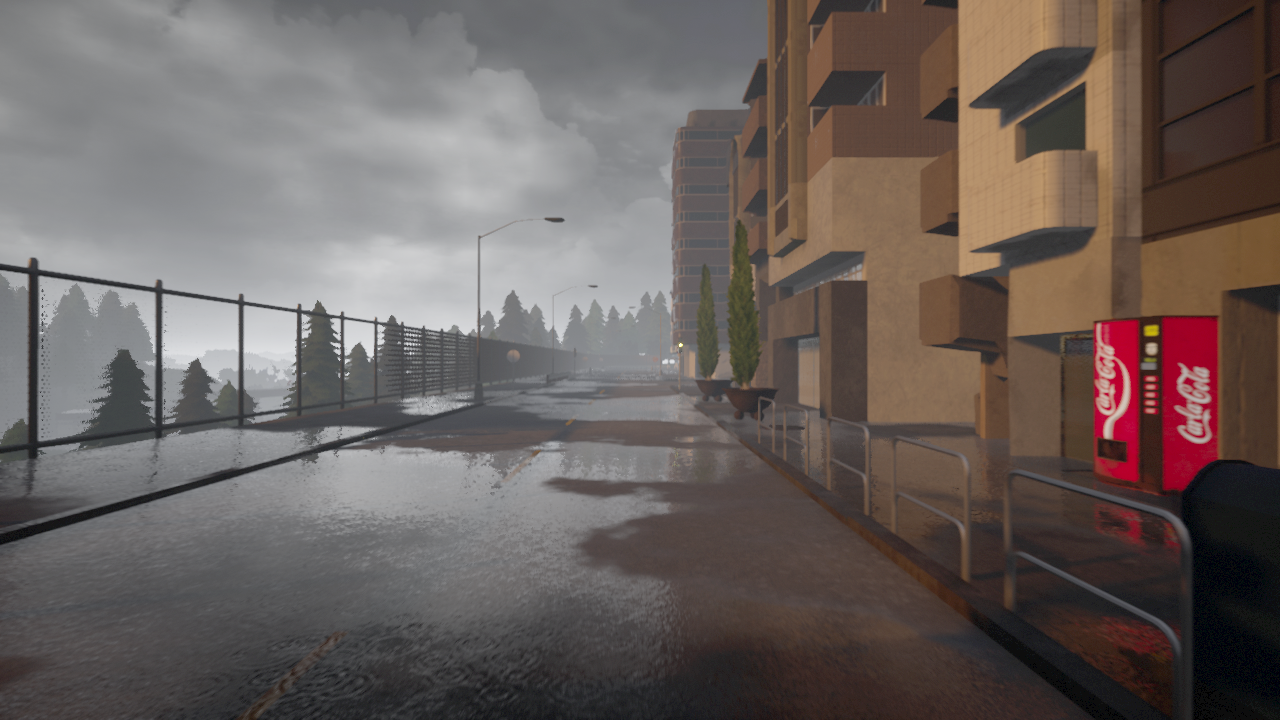yellow: (677, 336, 683, 354)
